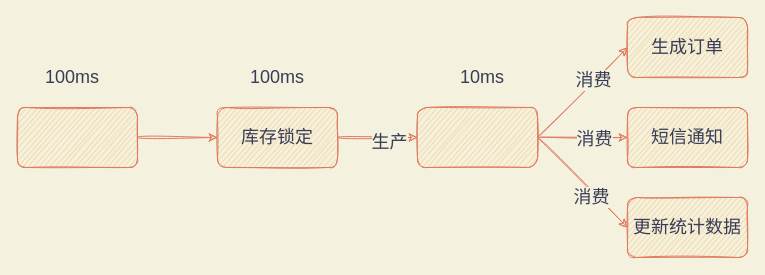
Some shapes in this 765 by 275 pixel diagram are drawn without their labels. Here are the shapes that lost their labels. From the top down, the box of each, then its label:
(16, 106, 138, 168): 风险控制
(416, 106, 538, 168): 消息队列
